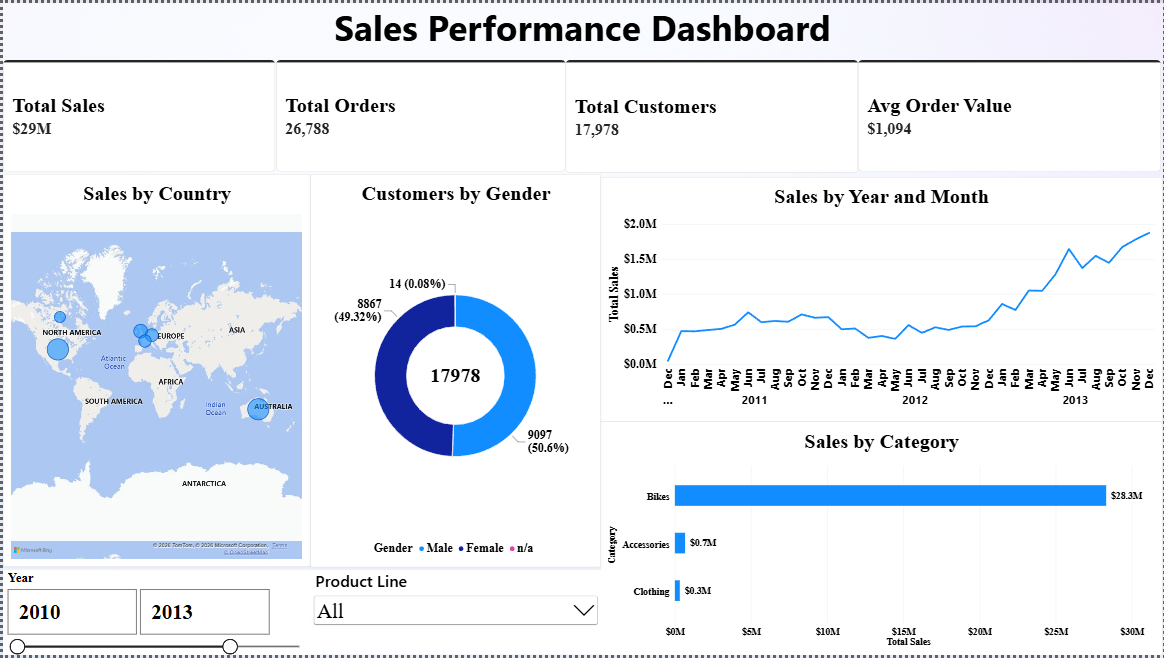

Layout of this report page (visuals, bound fields, positions):
{"tool":"powerbi","page":{"name":"Sales Dashboard","canvas":[1920,1080],"ordinal":0},"visuals":[{"type":"cardVisual","title":"Total Sales","fields":{"Data":["gold fact_sales.Total Sales"]},"box":[0,95.2,451.4,185.4],"z":0},{"type":"cardVisual","fields":{"Data":["gold fact_sales.Avg Order Value"]},"box":[1417.5,95.2,502.6,185.4],"z":1},{"type":"cardVisual","fields":{"Data":["gold fact_sales.Total Customers Display"]},"box":[932,95.2,485.5,187.9],"z":2},{"type":"cardVisual","fields":{"Data":["gold fact_sales.Total Orders"]},"box":[451.4,95.2,480.6,185.4],"z":3},{"type":"lineChart","title":"Sales by Year and Month","fields":{"Category":["Calendar.Year","Calendar.Month"],"Y":["gold fact_sales.Total Sales"]},"box":[988.9,288.2,931.8,405],"z":4},{"type":"clusteredBarChart","title":"Sales by Category","fields":{"Category":["gold dim_products.category"],"Y":["gold fact_sales.Total Sales"]},"box":[988.9,693.2,931.8,387.6],"z":5},{"type":"map","title":"Sales by Country","fields":{"Category":["gold dim_customers.country"],"Size":["gold fact_sales.Total Sales"]},"box":[0,283.3,509.4,651],"z":6},{"type":"donutChart","title":"Customers by Gender","fields":{"Category":["gold dim_customers.gender"],"Y":["gold fact_sales.Total Customers"]},"box":[509.4,283.3,480.6,651.4],"z":7},{"type":"slicer","fields":{"Values":["Calendar.Year"]},"box":[0,939.2,509.4,141.6],"z":8},{"type":"slicer","fields":{"Values":["gold dim_products.product_line"]},"box":[509.4,939.2,481,139.2],"z":9},{"type":"textbox","box":[0,0,1920.1,95.2],"z":10}]}

Visuals, with their boxes in screenshot pixels (x1, y1, x2, y2), scaled from the page's 1920x1080 canvas onto the 1164x658 screenshot:
"Total Sales" cardVisual: 0:58:274:171
cardVisual - gold fact_sales.Avg Order Value: 859:58:1163:171
cardVisual - gold fact_sales.Total Customers Display: 565:58:859:172
cardVisual - gold fact_sales.Total Orders: 274:58:565:171
"Sales by Year and Month" lineChart: 600:176:1163:422
"Sales by Category" clusteredBarChart: 600:422:1163:657
"Sales by Country" map: 0:173:309:569
"Customers by Gender" donutChart: 309:173:600:569
slicer - Calendar.Year: 0:572:309:657
slicer - gold dim_products.product_line: 309:572:600:657
textbox: 0:0:1163:58
